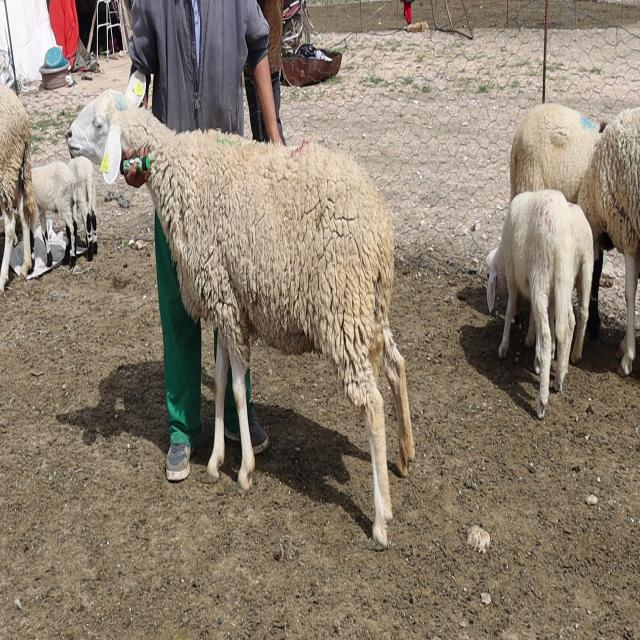Score_2: (66, 71, 415, 550)
